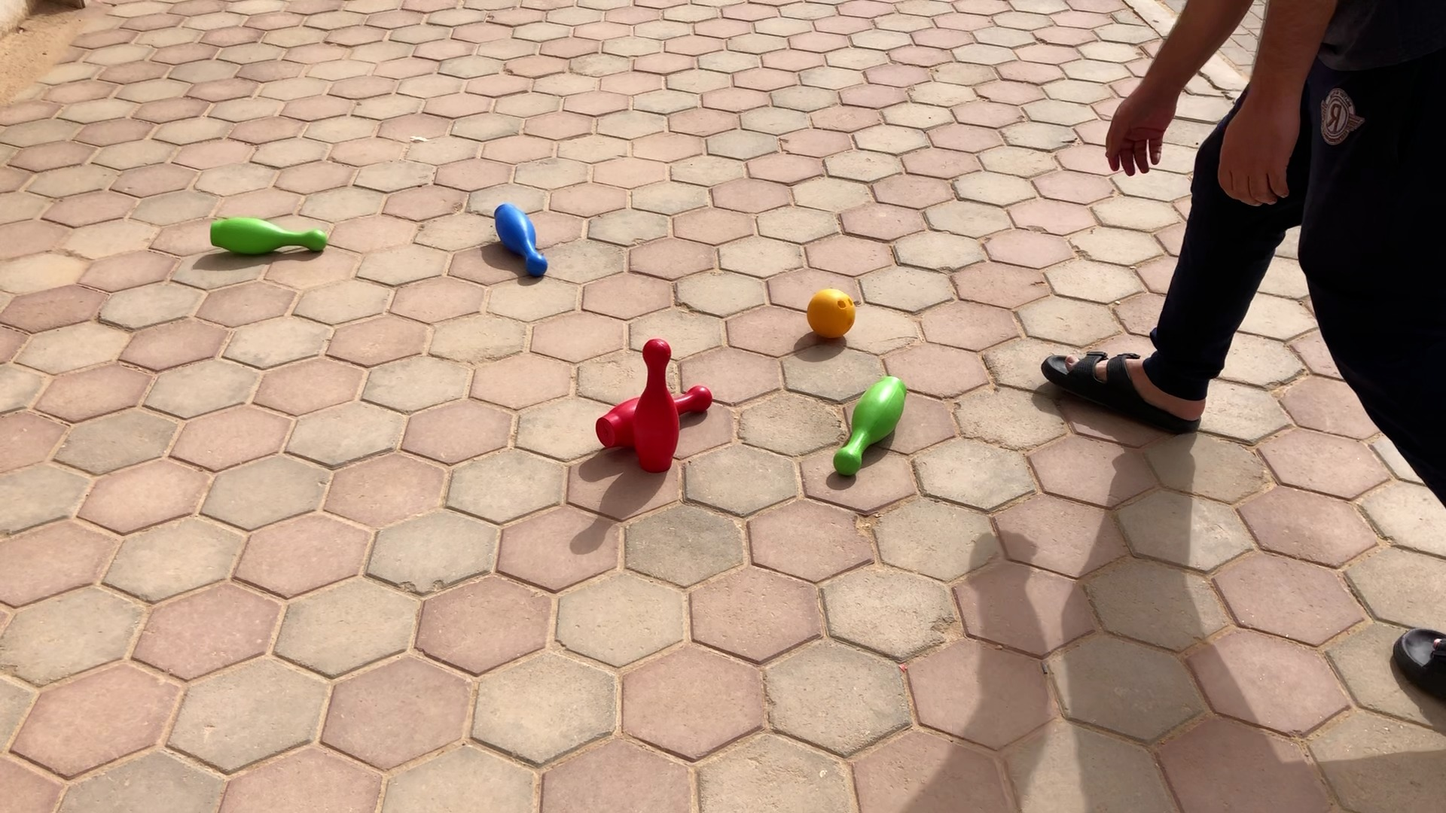pin: (614, 341, 682, 471), (596, 388, 708, 450), (834, 376, 904, 474), (209, 218, 329, 257), (496, 204, 549, 276)
